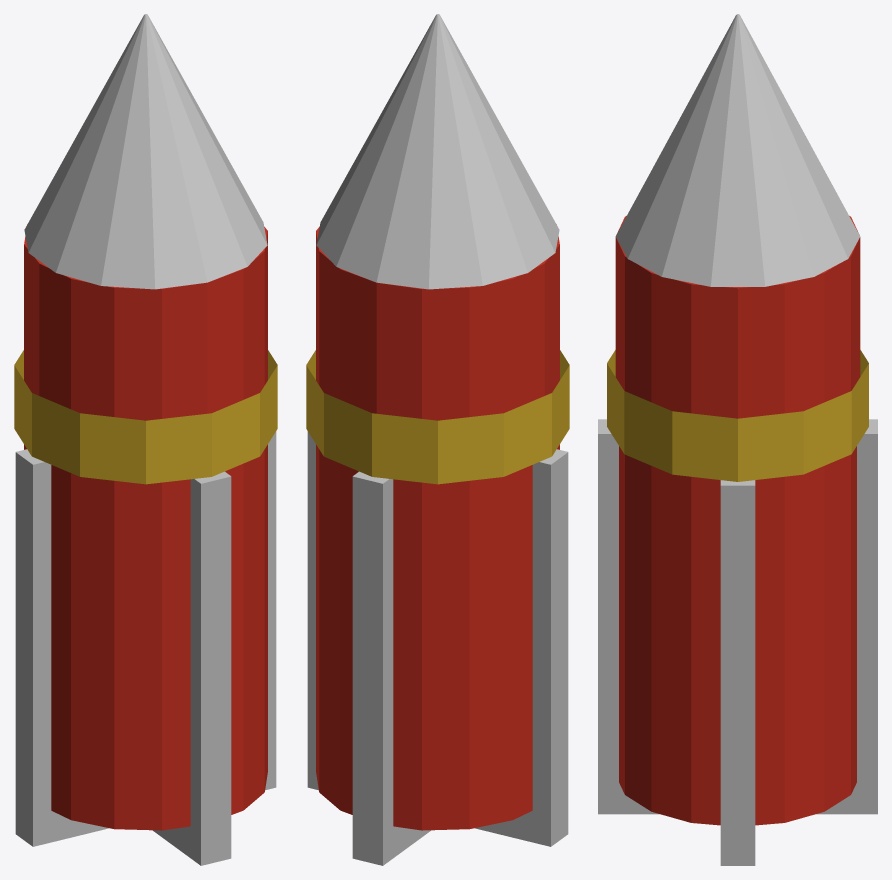
The model's file is incendiary_bomb.obj.
The picture shows the model from 3 angles, left to right: view 1: azimuth 30°, elevation 25°; view 2: azimuth 150°, elevation 25°; view 3: azimuth 270°, elevation 25°; orthographic projection.
Visible parts, largest first — view 1: incendiary_bomb; view 2: incendiary_bomb; view 3: incendiary_bomb.
Boxes of the visible parts, bbox=[...] form: incendiary_bomb: bbox=[14, 14, 277, 865]; incendiary_bomb: bbox=[306, 14, 569, 865]; incendiary_bomb: bbox=[598, 14, 877, 865].
Bounding box in the file's own units: 0.16 × 0.5 × 0.16.
